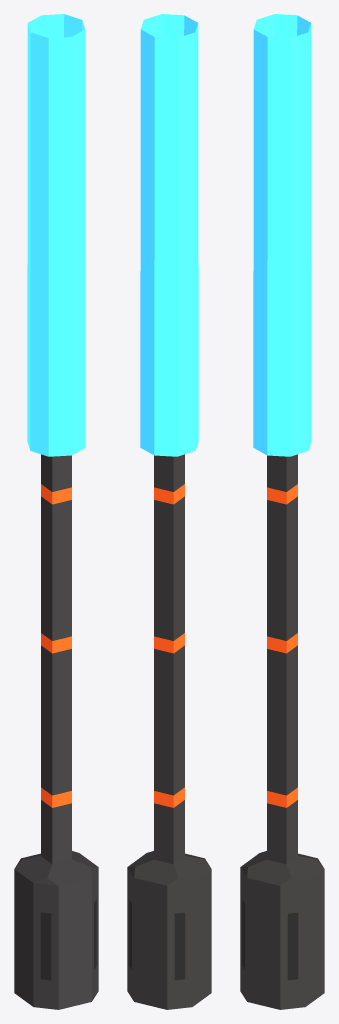
File: scifi_scifi-lamp-city.fbx
3 renders of one model, left to right at view 1: azimuth 30°, elevation 25°; view 2: azimuth 150°, elevation 25°; view 3: azimuth 330°, elevation 25°, orthographic.
Parts seen in each view (by area): view 1: scifi_scifi_lamp_city; view 2: scifi_scifi_lamp_city; view 3: scifi_scifi_lamp_city.
Part boxes in pixels (left/top/right/bottom): scifi_scifi_lamp_city: left=14, top=14, right=98, bottom=1009; scifi_scifi_lamp_city: left=127, top=14, right=211, bottom=1009; scifi_scifi_lamp_city: left=240, top=14, right=324, bottom=1009.
Size of the model in its own units: 14.13 by 200 by 14.13.
